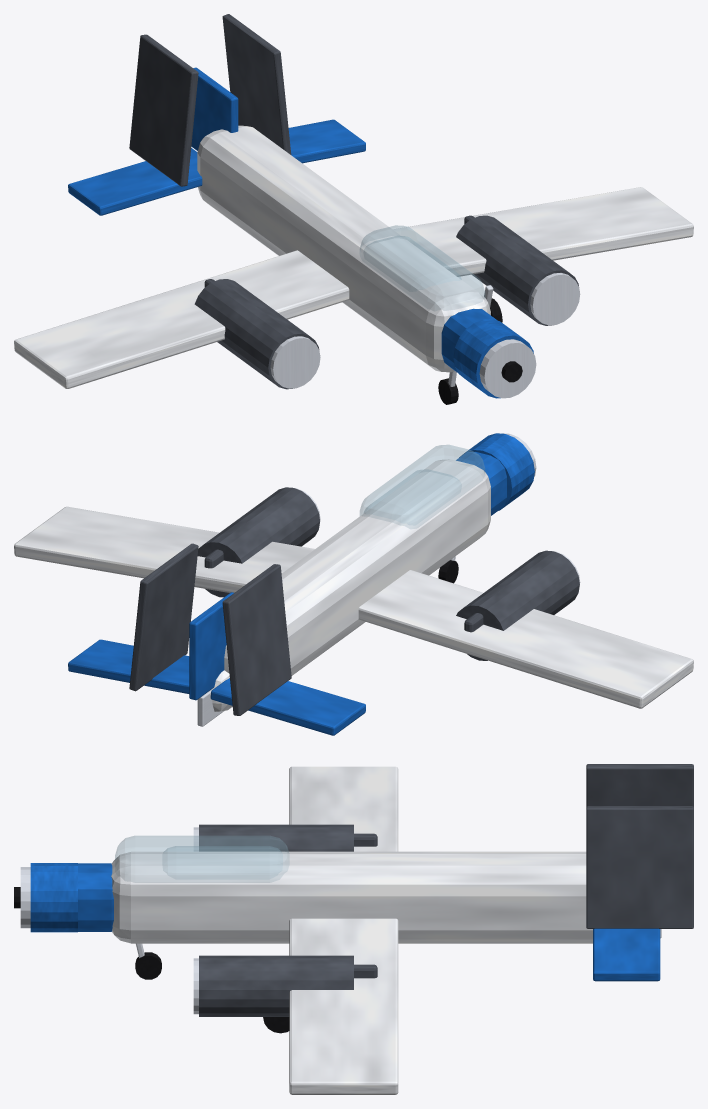
File: veh_jet.glb
3 renders of one model, top to bottom at view 1: azimuth 30°, elevation 25°; view 2: azimuth 150°, elevation 25°; view 3: azimuth 270°, elevation 25°, orthographic. The views are drawn at different scales.
Parts seen in each view (by area): view 1: veh_jet_fuselage, veh_jet_wing_l, veh_jet_wing_r, veh_jet_vtail_l, veh_jet_canopy_jet, veh_jet_vtail_r, veh_jet_nac_l, veh_jet_nac_r, veh_jet_tail_l, veh_jet_canopy, veh_jet_tail_r, veh_jet_cowl (+5 smaller); view 2: veh_jet_fuselage, veh_jet_wing_l, veh_jet_wing_r, veh_jet_vtail_l, veh_jet_vtail_r, veh_jet_canopy_jet, veh_jet_nac_l, veh_jet_nac_r, veh_jet_tail_l, veh_jet_canopy, veh_jet_tail_r, veh_jet_fin (+3 smaller); view 3: veh_jet_fuselage, veh_jet_wing_r, veh_jet_vtail_r, veh_jet_nac_r, veh_jet_canopy_jet, veh_jet_wing_l, veh_jet_vtail_l, veh_jet_nac_l, veh_jet_canopy, veh_jet_tail_r, veh_jet_cowl, veh_jet_nose (+2 smaller).
Boxes of the visible parts, x1=… form: veh_jet_fuselage: x1=197, y1=125, x2=490, y2=372; veh_jet_wing_l: x1=14, y1=250, x2=349, y2=388; veh_jet_wing_r: x1=393, y1=187, x2=693, y2=276; veh_jet_vtail_l: x1=129, y1=34, x2=198, y2=186; veh_jet_canopy_jet: x1=360, y1=225, x2=484, y2=310; veh_jet_vtail_r: x1=222, y1=14, x2=291, y2=154; veh_jet_nac_l: x1=194, y1=279, x2=319, y2=389; veh_jet_nac_r: x1=456, y1=215, x2=578, y2=325; veh_jet_tail_l: x1=68, y1=148, x2=202, y2=215; veh_jet_canopy: x1=364, y1=236, x2=461, y2=291; veh_jet_tail_r: x1=288, y1=119, x2=365, y2=163; veh_jet_cowl: x1=453, y1=319, x2=533, y2=398; veh_jet_fuselage: x1=224, y1=459, x2=490, y2=675; veh_jet_wing_l: x1=358, y1=570, x2=693, y2=708; veh_jet_wing_r: x1=14, y1=506, x2=314, y2=592; veh_jet_vtail_l: x1=222, y1=564, x2=291, y2=715; veh_jet_vtail_r: x1=129, y1=543, x2=198, y2=691; veh_jet_canopy_jet: x1=360, y1=445, x2=484, y2=528; veh_jet_nac_l: x1=456, y1=550, x2=579, y2=660; veh_jet_nac_r: x1=197, y1=487, x2=319, y2=597; veh_jet_tail_l: x1=210, y1=678, x2=365, y2=735; veh_jet_canopy: x1=364, y1=469, x2=461, y2=524; veh_jet_tail_r: x1=68, y1=639, x2=189, y2=693; veh_jet_fin: x1=189, y1=592, x2=233, y2=700; veh_jet_fuselage: x1=111, y1=851, x2=592, y2=943; veh_jet_wing_r: x1=289, y1=918, x2=398, y2=1094; veh_jet_vtail_r: x1=586, y1=806, x2=693, y2=928; veh_jet_nac_r: x1=199, y1=955, x2=353, y2=1016; veh_jet_canopy_jet: x1=115, y1=836, x2=289, y2=882; veh_jet_wing_l: x1=289, y1=766, x2=398, y2=851; veh_jet_vtail_l: x1=586, y1=764, x2=693, y2=806; veh_jet_nac_l: x1=199, y1=824, x2=353, y2=851; veh_jet_canopy: x1=163, y1=846, x2=282, y2=878; veh_jet_tail_r: x1=593, y1=928, x2=660, y2=981; veh_jet_cowl: x1=30, y1=863, x2=77, y2=932; veh_jet_nose: x1=78, y1=863, x2=113, y2=931.
Bounding box in the file's own units: 11.14 × 3.15 × 10.1.
Materials: 8 (8 with a texture image).
